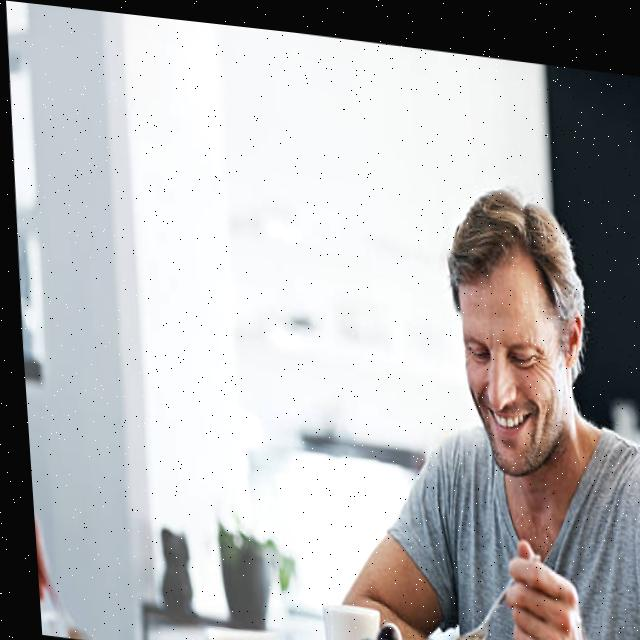eating-person: (270, 144, 640, 640)
